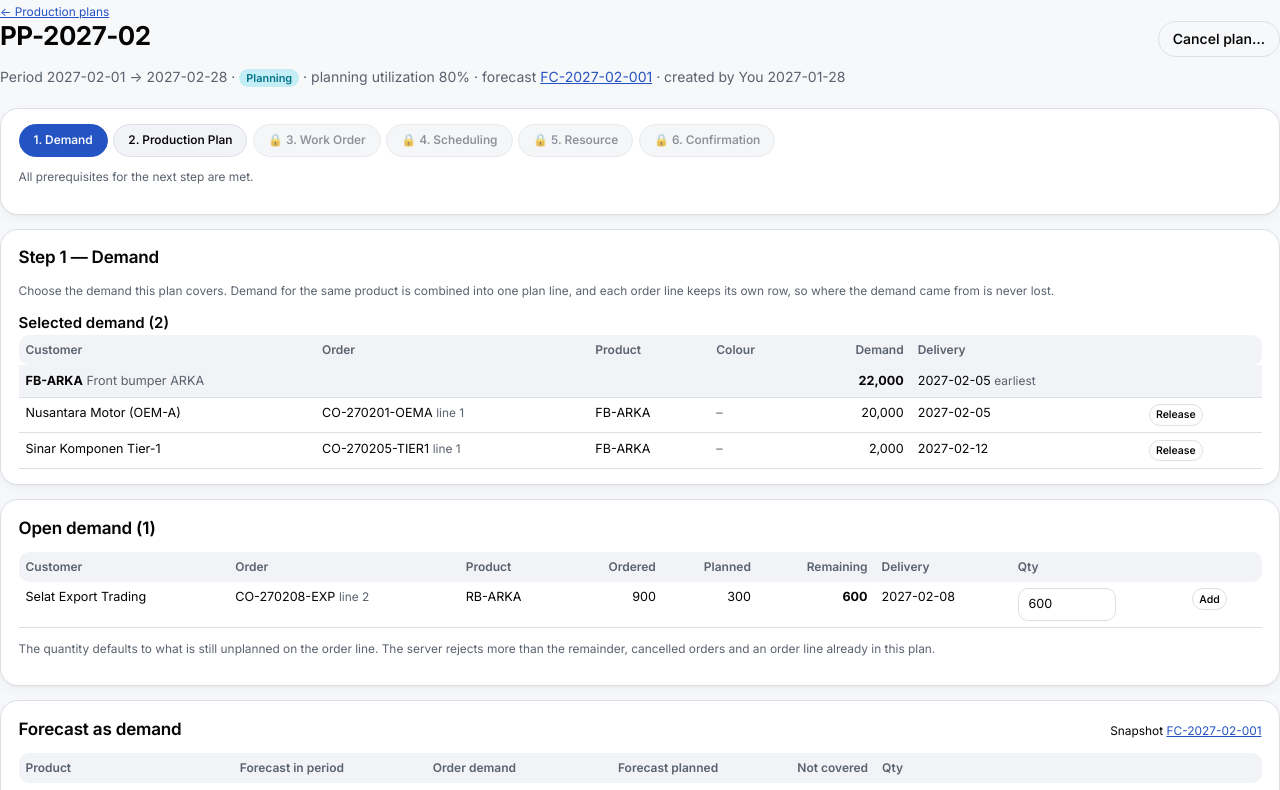
Test case: step 1: shows the server's rejection of a demand
Click the button "Add".
click(1210, 599)  # box 1192,588 -> 1227,610
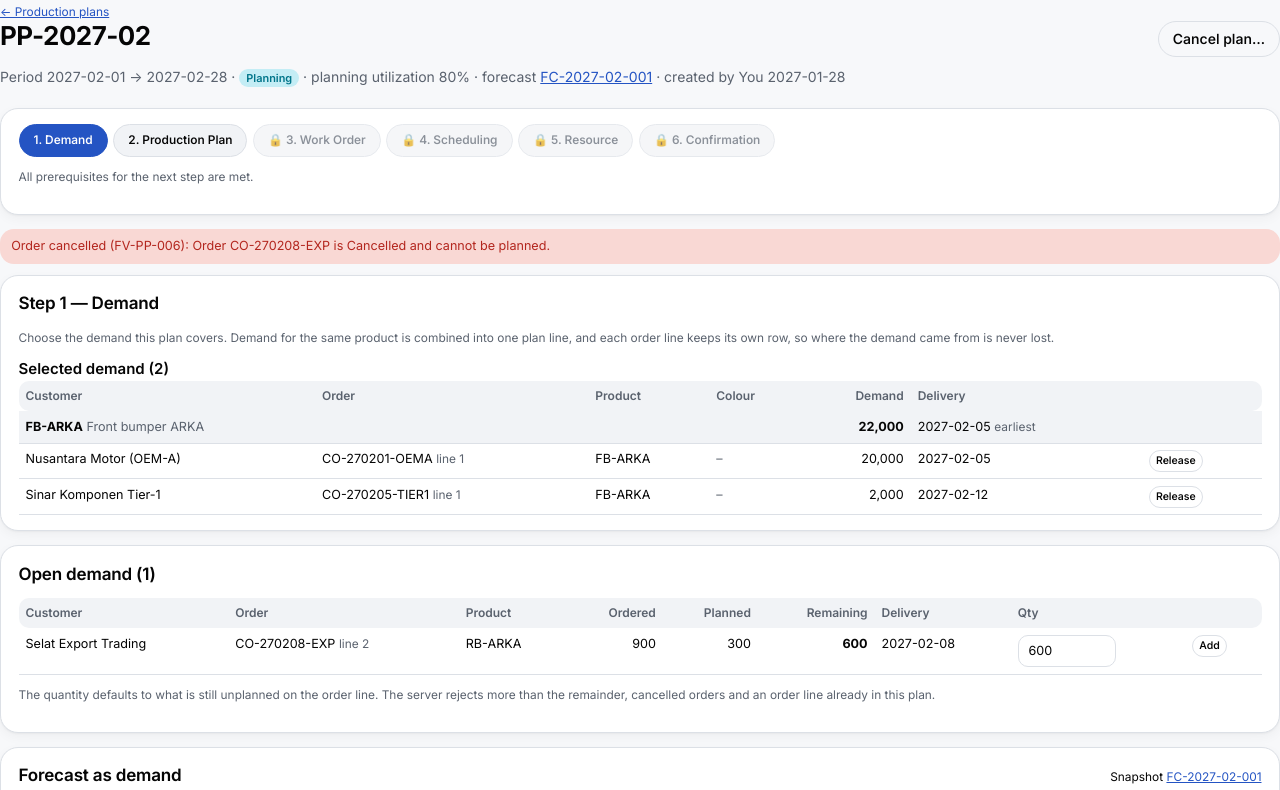
Expected: the message shows "Order cancelled (FV-PP-006): Order CO-270208-EXP is Cancelled and cannot be planned.", 11,238 -> 550,253
